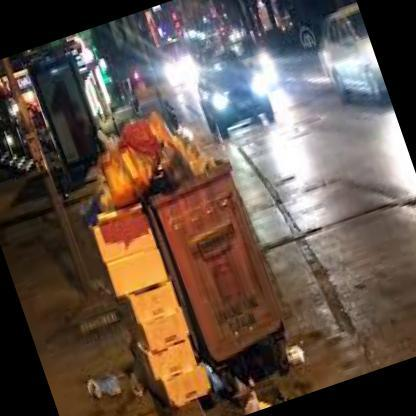Garbage: (53, 108, 225, 415), (69, 86, 210, 210), (88, 115, 168, 207), (144, 136, 198, 192), (79, 364, 131, 411), (145, 107, 188, 150), (234, 382, 287, 415), (279, 331, 318, 371)
